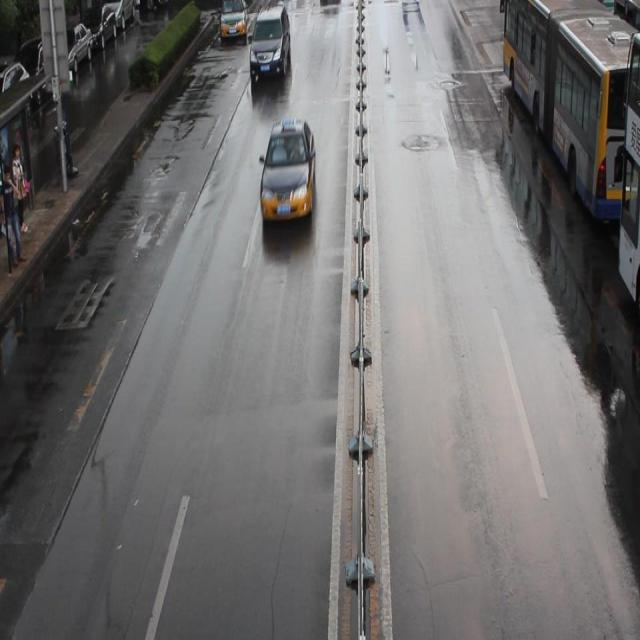car: (258, 120, 316, 222), (218, 1, 247, 40)
truck: (249, 1, 290, 81)
van: (502, 1, 640, 221), (615, 32, 640, 316)
